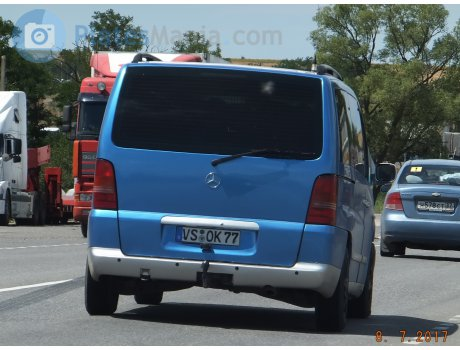License Plates: (181, 223, 241, 243)
